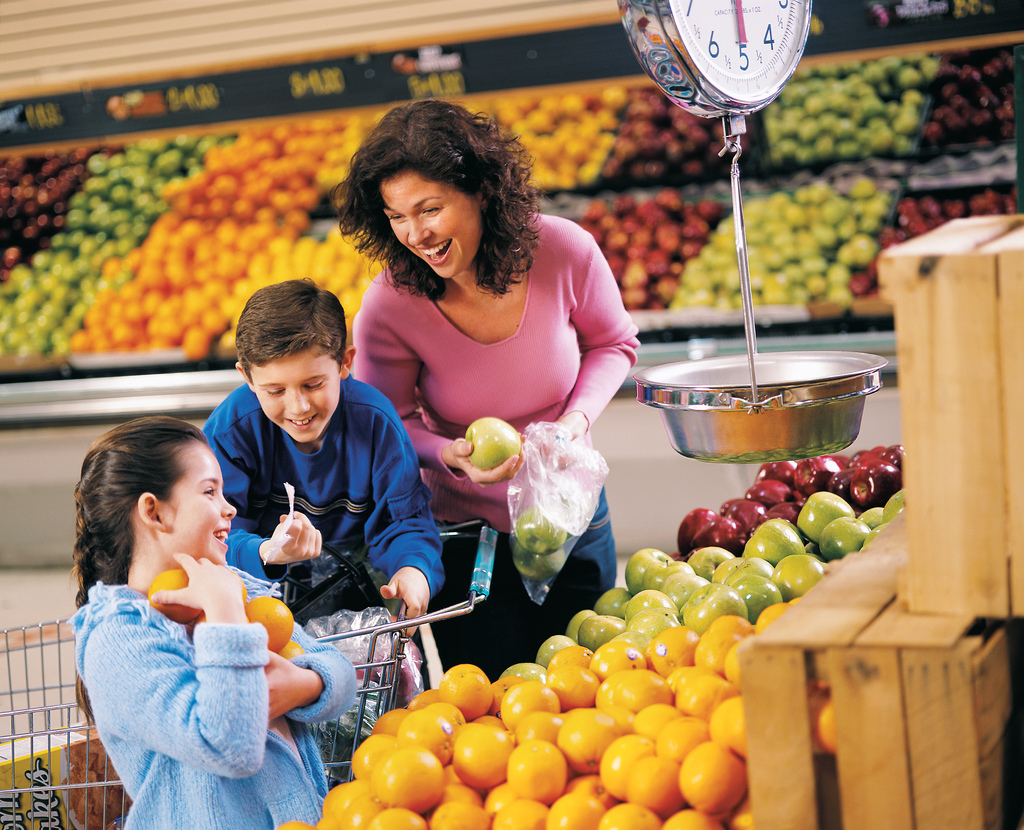Ripe: (282, 595, 832, 829), (150, 571, 204, 621), (243, 598, 292, 648), (279, 630, 301, 659)
